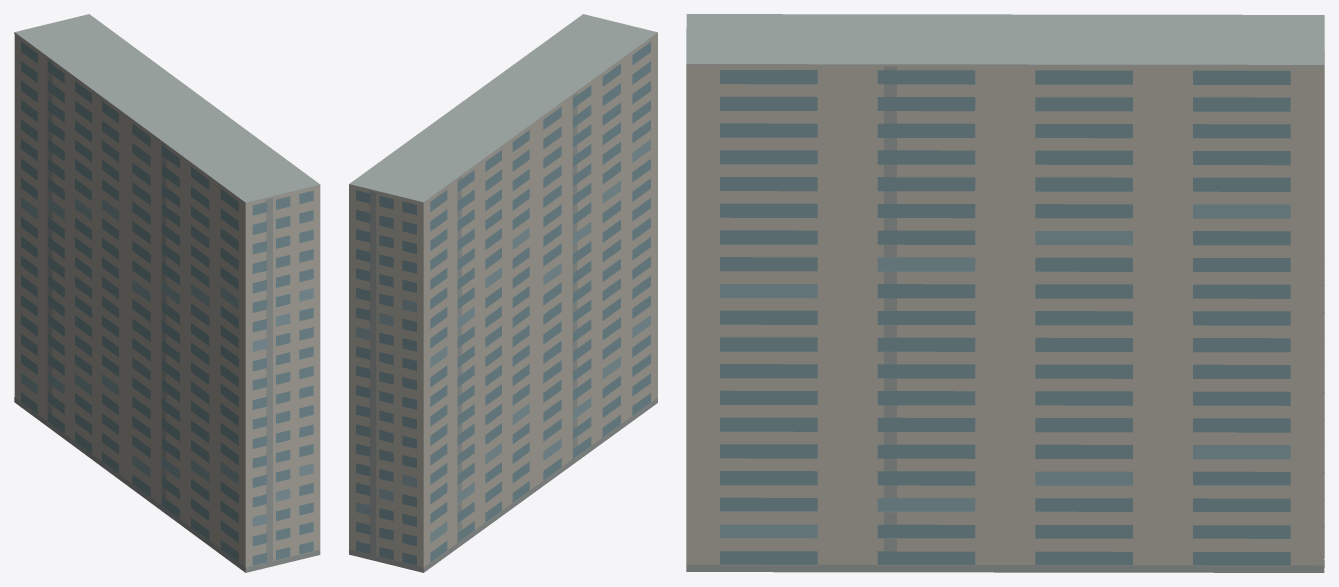
Rendered from residential-908cd129-14ec-4d7e-8cda-8f5570ad2dd8.glb.
3 renders of one model, left to right at view 1: azimuth 30°, elevation 25°; view 2: azimuth 150°, elevation 25°; view 3: azimuth 270°, elevation 25°, orthographic. The views are drawn at different scales.
Visible parts, largest first — view 1: residential-908cd129-14ec-4d7e-8cda-8f5570ad2dd8.tmp; view 2: residential-908cd129-14ec-4d7e-8cda-8f5570ad2dd8.tmp; view 3: residential-908cd129-14ec-4d7e-8cda-8f5570ad2dd8.tmp.
Boxes of the visible parts, x1=… form: residential-908cd129-14ec-4d7e-8cda-8f5570ad2dd8.tmp: x1=14, y1=14, x2=320, y2=572; residential-908cd129-14ec-4d7e-8cda-8f5570ad2dd8.tmp: x1=349, y1=14, x2=657, y2=572; residential-908cd129-14ec-4d7e-8cda-8f5570ad2dd8.tmp: x1=686, y1=14, x2=1324, y2=572.
Bounding box in the file's own units: 11.19 × 52 × 59.26.
